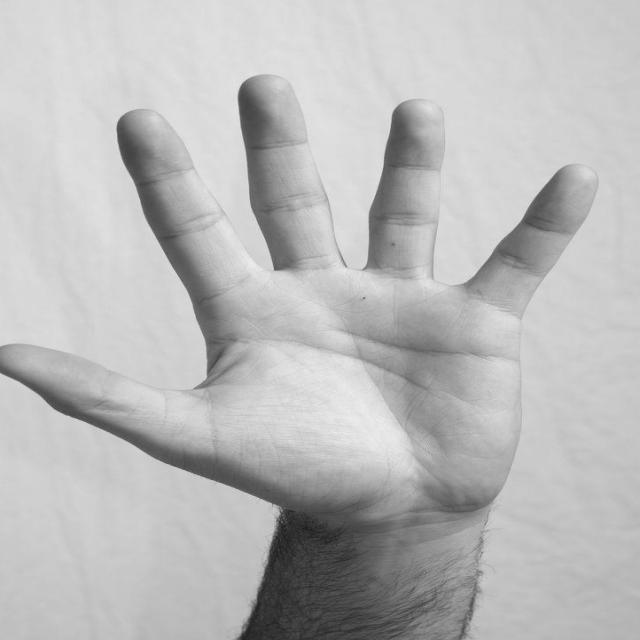stop: (0, 62, 607, 536)
